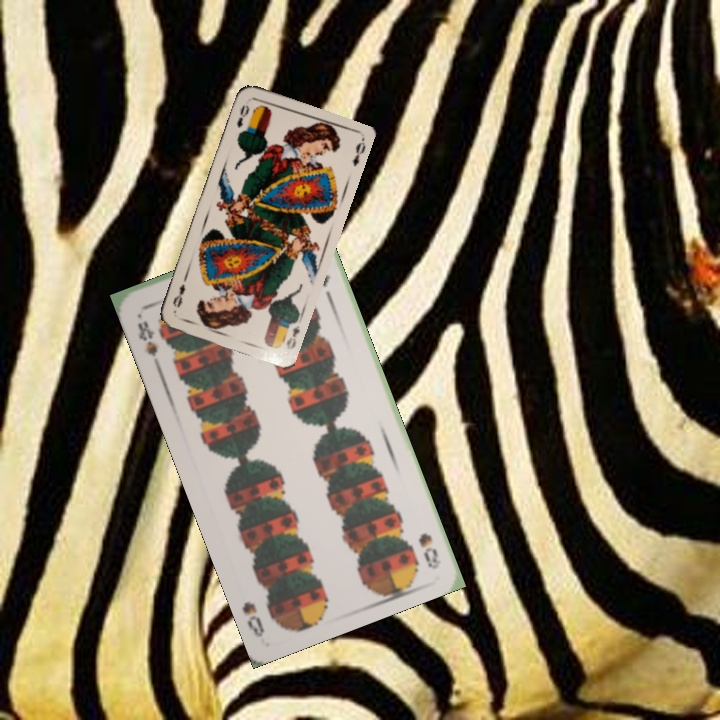EO: (282, 321, 302, 352), (233, 101, 252, 130)
S8: (133, 316, 162, 367), (414, 529, 444, 572)
